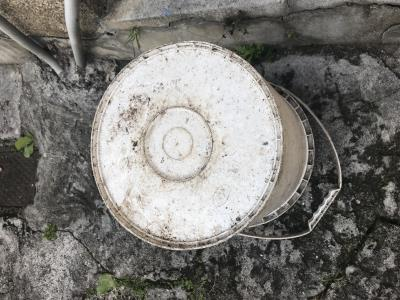bucket: (85, 38, 320, 257)
